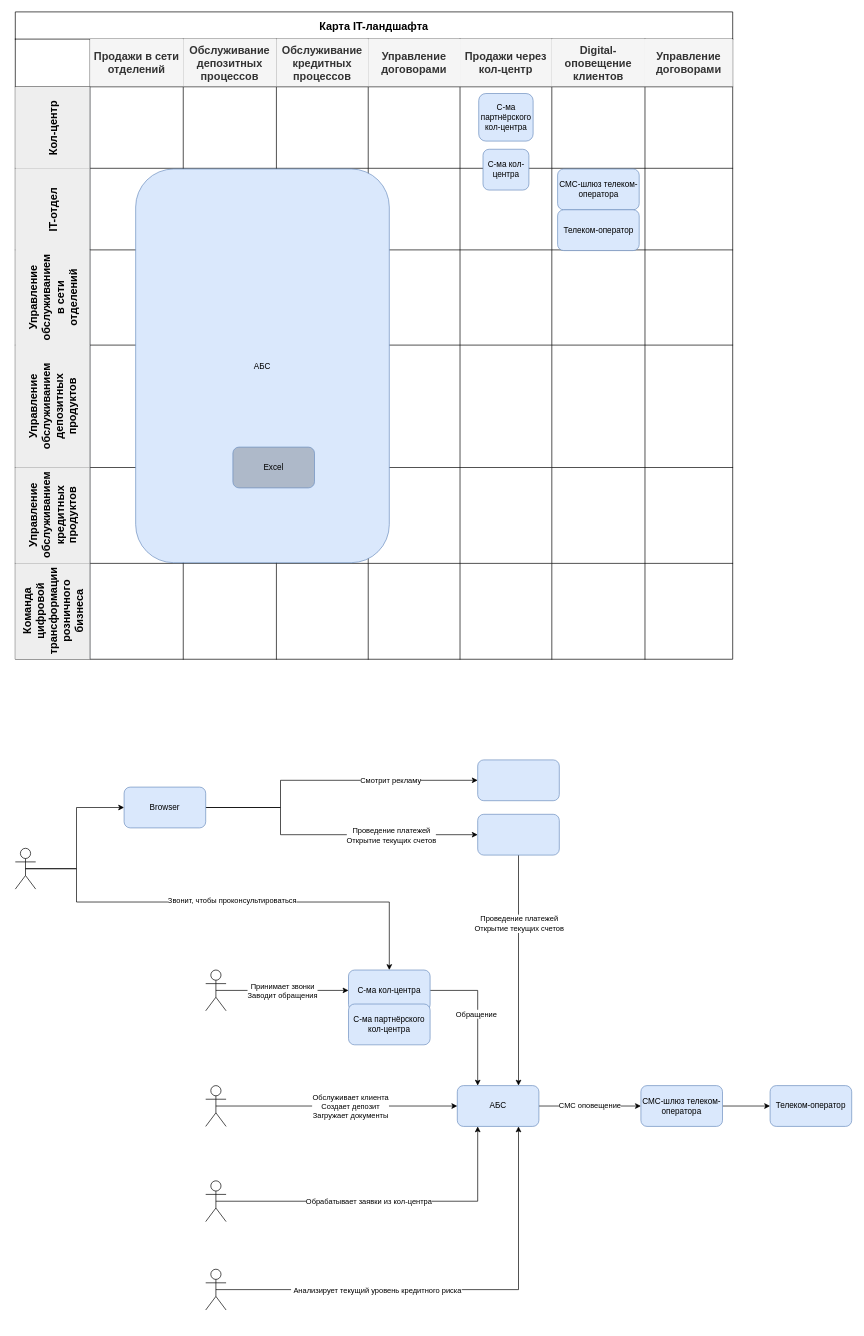
Some shapes in this 864 by 1336 pixel diagram are drawn without their labels. The box of each missing label's shape, as (x1, y1, x2, y2) in pixels:
Интернет-банк: (477, 814, 559, 855)
Клиент: (15, 848, 36, 889)
Сайт: (477, 759, 559, 801)
Сотрудник бэк-офиса (менеджер депозитов): (205, 1180, 226, 1222)
Сотрудник кол-центра/ партнерского кол-центра: (205, 969, 226, 1011)
Сотрудник кредитования: (205, 1269, 226, 1310)
Сотрудник фронт-офиса (отделения): (205, 1085, 226, 1126)
